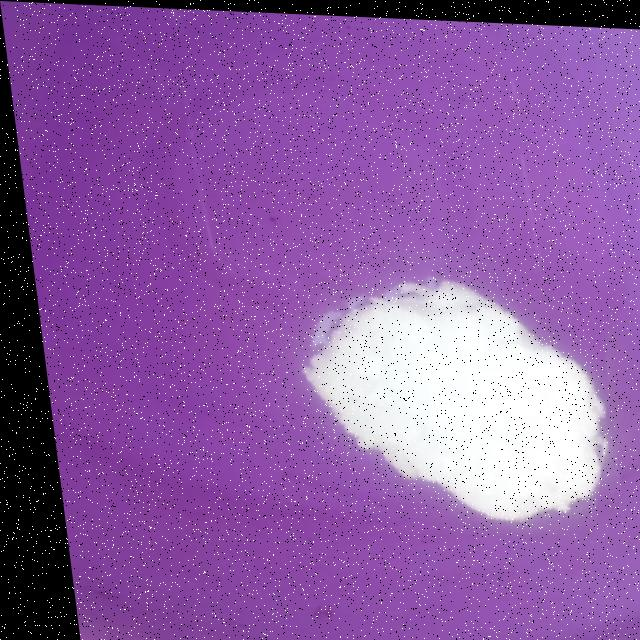thermocoal: (258, 241, 614, 537)
